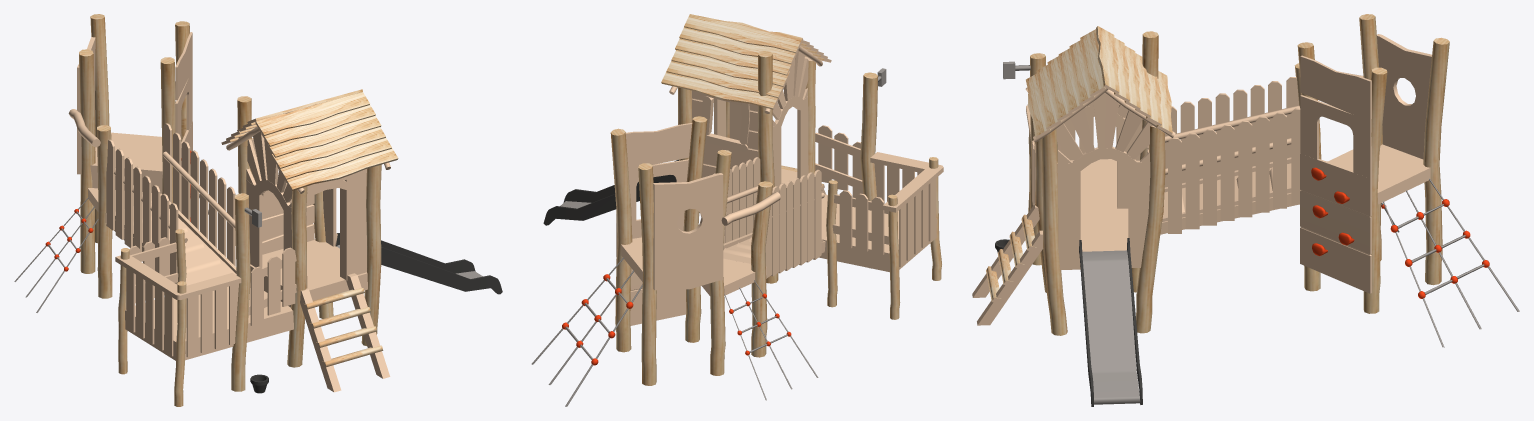
The model's file is PlaygroundSet.fbx.
The picture shows the model from 3 angles, left to right: view 1: azimuth 30°, elevation 25°; view 2: azimuth 150°, elevation 25°; view 3: azimuth 270°, elevation 25°; orthographic projection. The views are drawn at different scales.
Parts seen in each view (by area): view 1: PlaygroundSet; view 2: PlaygroundSet; view 3: PlaygroundSet.
Part boxes in pixels (<box>): PlaygroundSet: <box>14,14,502,406</box>; PlaygroundSet: <box>531,14,943,406</box>; PlaygroundSet: <box>972,14,1519,406</box>.
Bounding box in the file's own units: 467 × 299 × 563.
